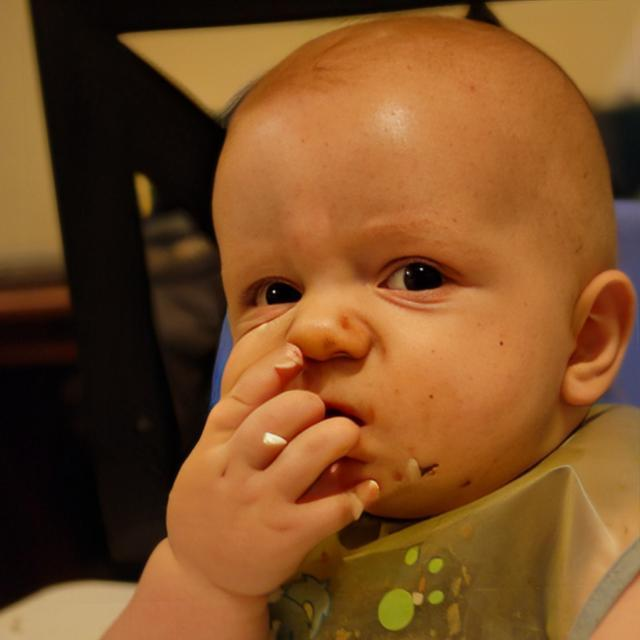anger: (208, 86, 576, 524)
